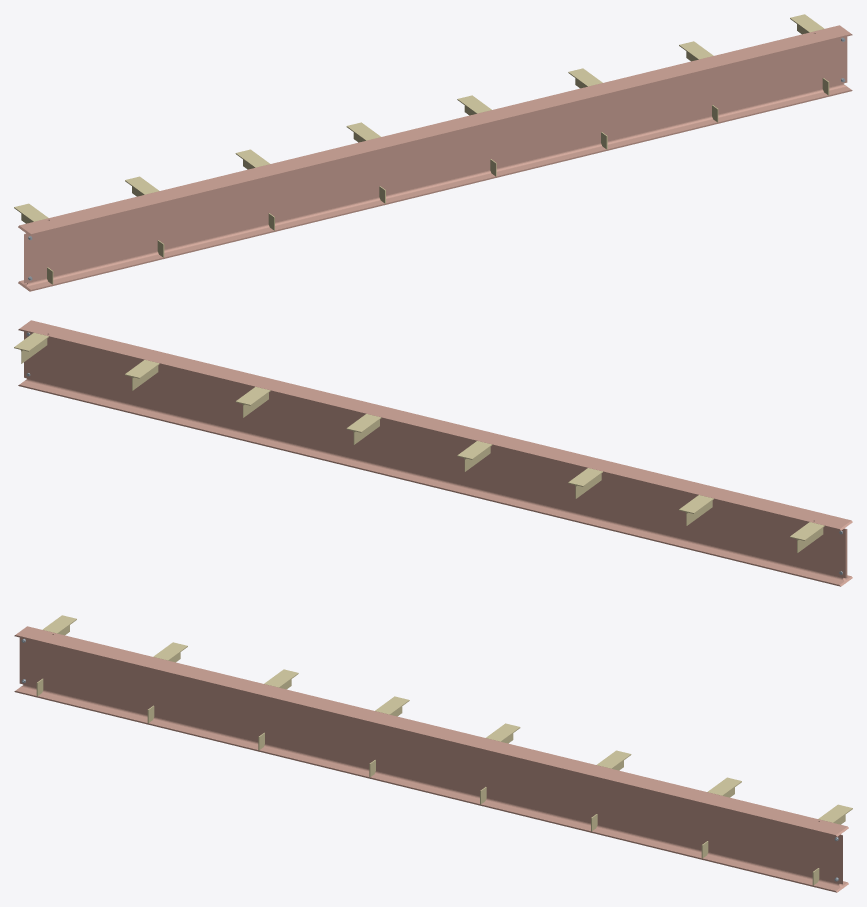
3 views of the same model, one above another, from view 1: azimuth 30°, elevation 25°; view 2: azimuth 150°, elevation 25°; view 3: azimuth 330°, elevation 25° (orthographic).
Parts seen in each view (by area): view 1: product-0dcdd2ca-8648-43b5-bea2-060e9eca523d-body; view 2: product-0dcdd2ca-8648-43b5-bea2-060e9eca523d-body, product-66b54070-b58e-4cb0-a764-227a9adb64fd-body, product-8df58a64-ab03-4e07-aa79-f4db5ba72834-body, product-c1e8dee8-860d-4022-b735-46b41ea6fdfa-body, product-b5eb9fdd-dce2-45ef-a638-6ba5ff047a4a-body, product-b78a9655-b528-414b-8b42-8ef8d77a9fbb-body, product-64b1f3d8-8c0d-4c80-b7ff-7dac7d4456e5-body, product-7eef1822-7b59-4335-9d72-5691356b9268-body, product-61de94fa-deb0-4fe5-a42a-fa11f3c1e77c-body; view 3: product-0dcdd2ca-8648-43b5-bea2-060e9eca523d-body.
Part boxes in pixels (x1,y1,x2,y2): product-0dcdd2ca-8648-43b5-bea2-060e9eca523d-body: [18, 25, 852, 291]; product-0dcdd2ca-8648-43b5-bea2-060e9eca523d-body: [18, 320, 852, 586]; product-66b54070-b58e-4cb0-a764-227a9adb64fd-body: [346, 414, 381, 444]; product-8df58a64-ab03-4e07-aa79-f4db5ba72834-body: [14, 332, 48, 363]; product-c1e8dee8-860d-4022-b735-46b41ea6fdfa-body: [457, 441, 492, 471]; product-b5eb9fdd-dce2-45ef-a638-6ba5ff047a4a-body: [679, 495, 713, 525]; product-b78a9655-b528-414b-8b42-8ef8d77a9fbb-body: [125, 360, 159, 390]; product-64b1f3d8-8c0d-4c80-b7ff-7dac7d4456e5-body: [568, 468, 602, 498]; product-7eef1822-7b59-4335-9d72-5691356b9268-body: [790, 522, 824, 552]; product-61de94fa-deb0-4fe5-a42a-fa11f3c1e77c-body: [235, 386, 270, 417]; product-0dcdd2ca-8648-43b5-bea2-060e9eca523d-body: [14, 626, 848, 892].
Size of the model in its own units: 9.06 by 0.602 by 0.6092.
